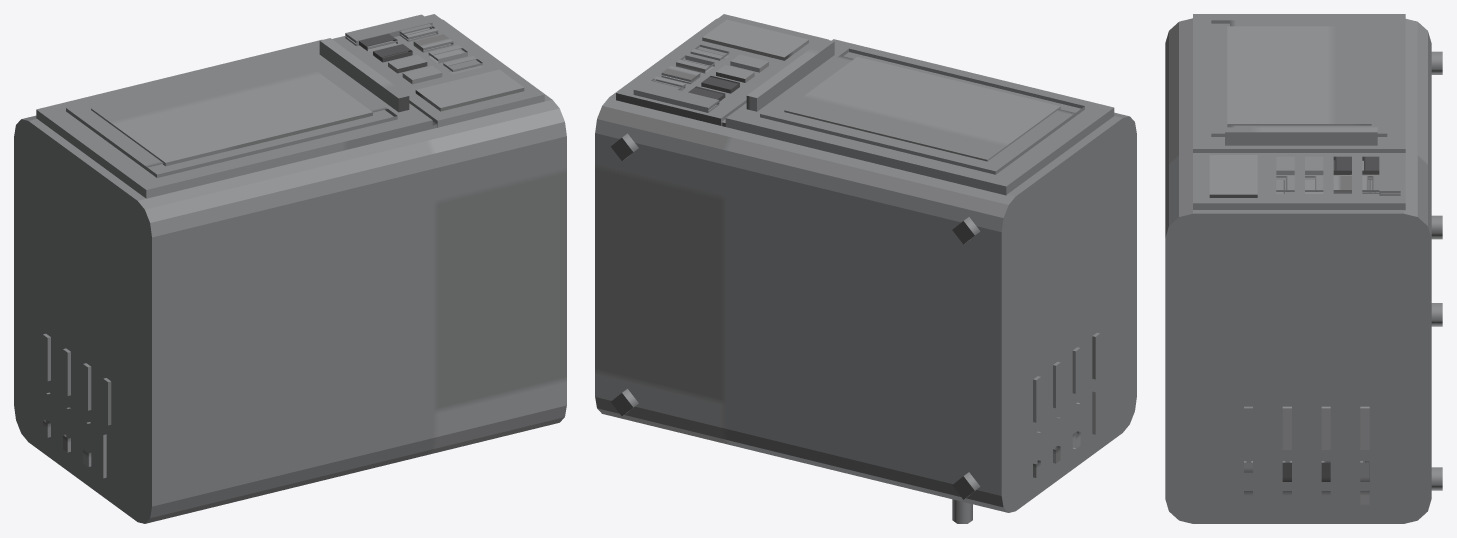
The picture shows the model from 3 angles, left to right: view 1: azimuth 30°, elevation 25°; view 2: azimuth 150°, elevation 25°; view 3: azimuth 270°, elevation 25°; orthographic projection. The views are drawn at different scales.
Bounding box in the file's own units: 0.508 × 0.426 × 0.3.
